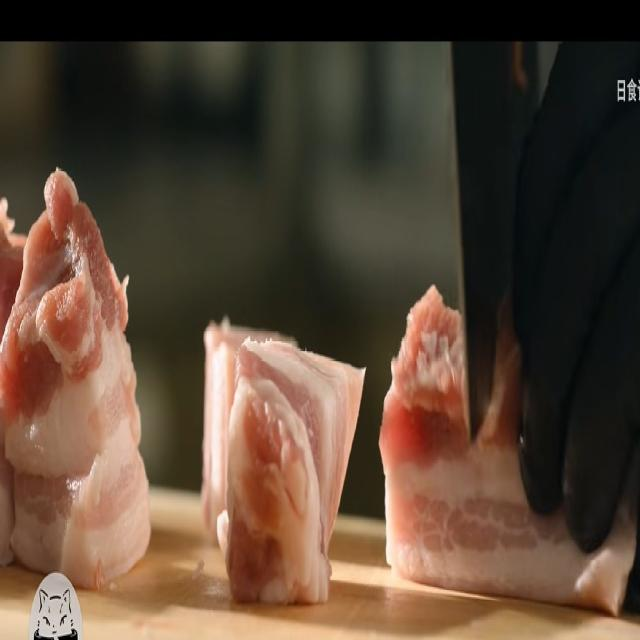pork: (0, 170, 150, 596), (193, 301, 358, 640), (378, 259, 526, 581)
